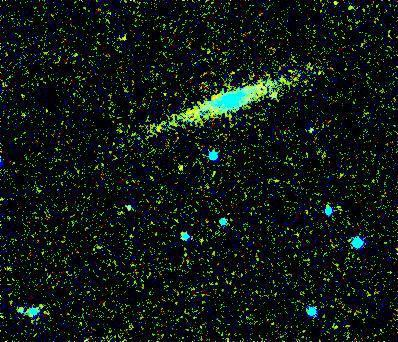star: (165, 154, 195, 184)
